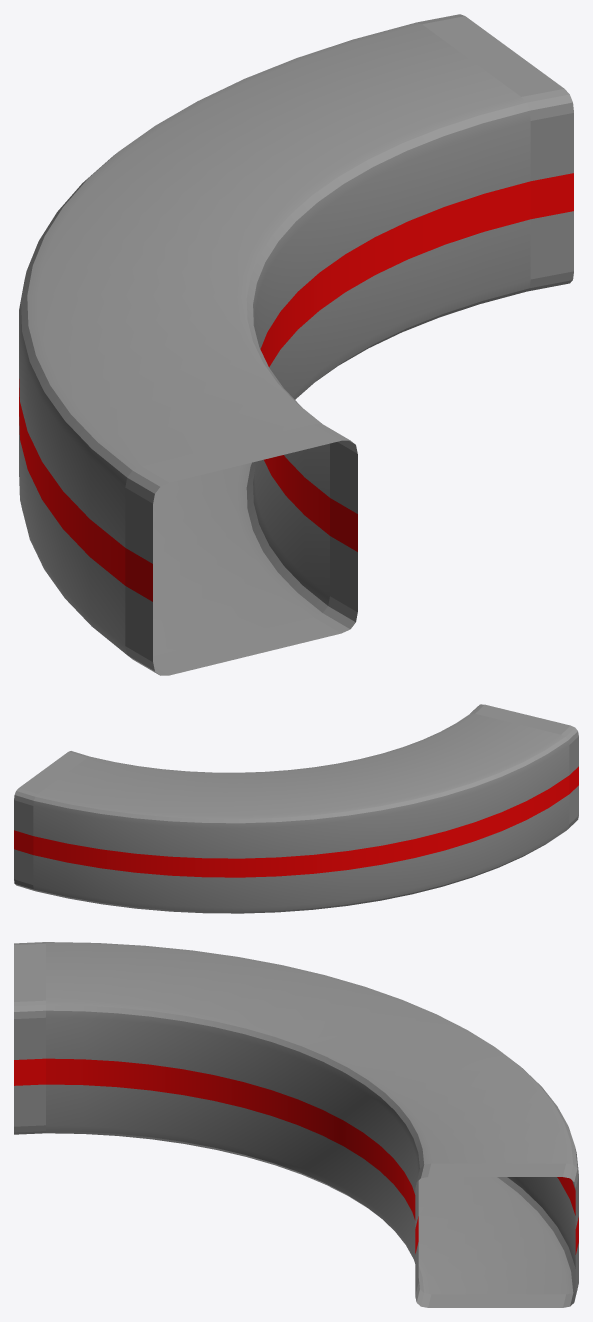
The model's file is HallWay_Curve_001.FBX.
3 renders of one model, top to bottom at view 1: azimuth 30°, elevation 25°; view 2: azimuth 150°, elevation 25°; view 3: azimuth 270°, elevation 25°, orthographic. The views are drawn at different scales.
Visible parts, largest first — view 1: HallWay_Curve_001; view 2: HallWay_Curve_001; view 3: HallWay_Curve_001.
Boxes of the visible parts, x1,y1,x2,y2 form: HallWay_Curve_001: [19, 14, 573, 675]; HallWay_Curve_001: [14, 704, 578, 913]; HallWay_Curve_001: [14, 942, 578, 1307].
Bounding box in the file's own units: 8.8 × 2.25 × 8.8.
